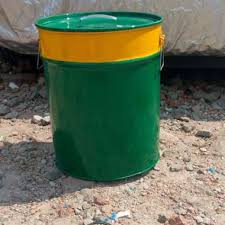metal: (35, 10, 164, 178)
